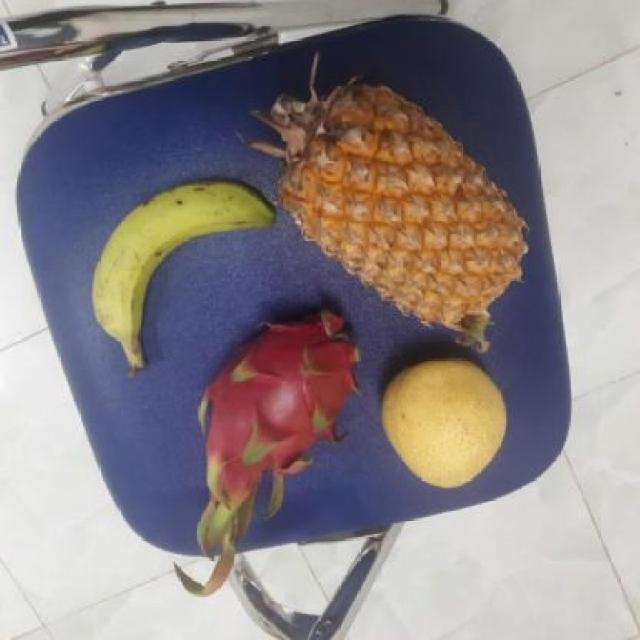banana: (87, 178, 271, 368)
dragon fruit: (199, 308, 361, 486)
pear: (375, 352, 507, 486)
pineapple: (264, 82, 514, 333)
